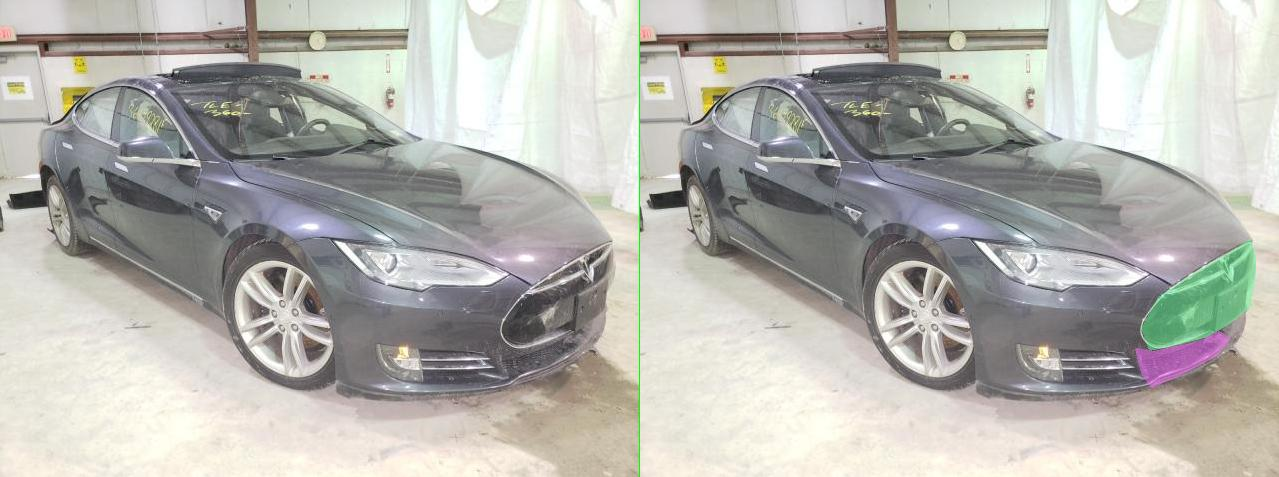Broken part: (1003, 239, 1231, 350), (1165, 243, 1217, 273)
Dent: (991, 331, 1181, 387)
Scratch: (1059, 300, 1127, 327)
